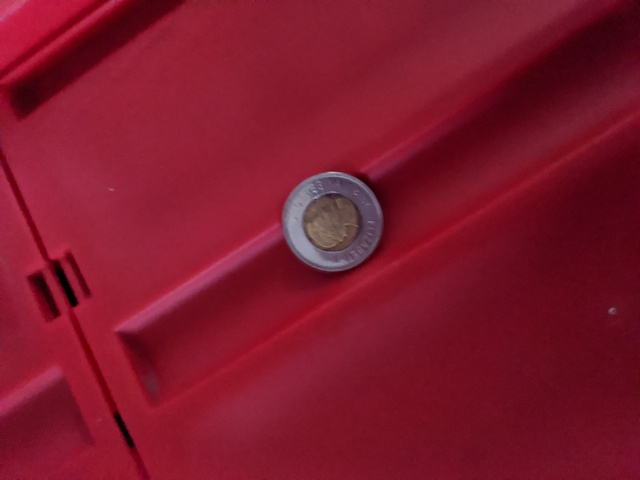twonie: (276, 167, 396, 278)
